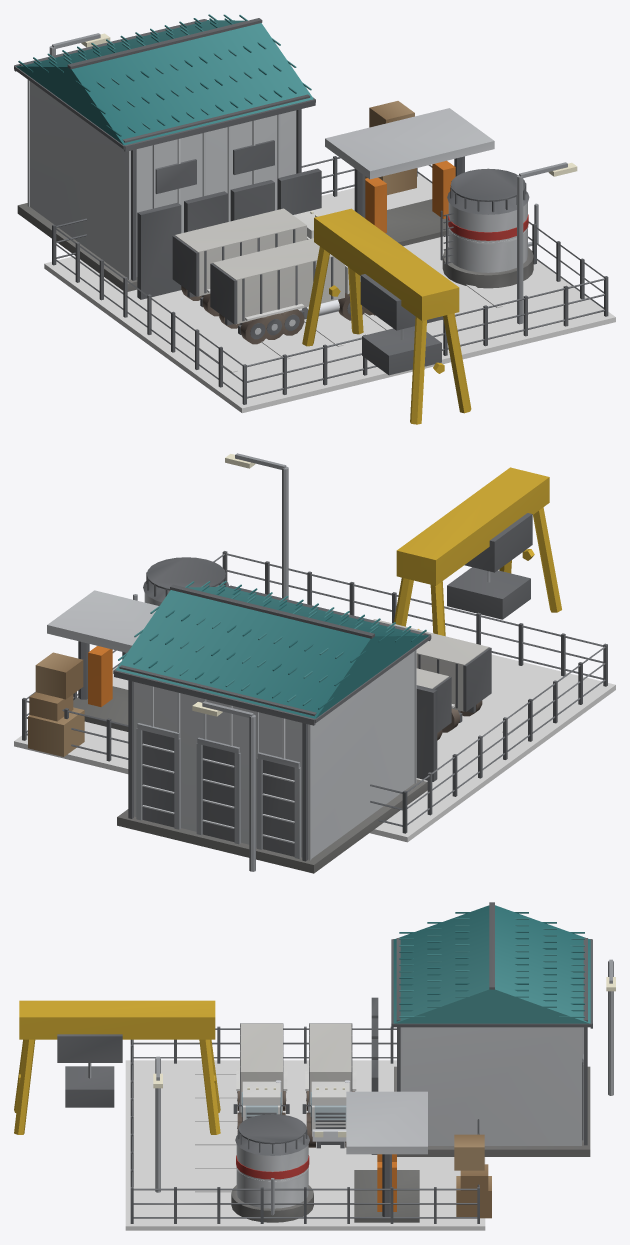
Rendered from Fleet_P3.fbx.
The picture shows the model from 3 angles, top to bottom: view 1: azimuth 30°, elevation 25°; view 2: azimuth 150°, elevation 25°; view 3: azimuth 270°, elevation 25°; orthographic projection. The views are drawn at different scales.
Visible parts, largest first — view 1: Fleet.Garage, Fleet.Yard, Fleet.WashGantry, Fleet.FuelIsland, Fleet.Parked0, Fleet.FuelTank, Fleet.Doors, Fleet.Fence, Fleet.Parked1, Fleet.Lamp1, Fleet.Crates, Fleet.Bays; view 2: Fleet.Garage, Fleet.WashGantry, Fleet.Yard, Fleet.Fence, Fleet.FuelIsland, Fleet.Crates, Fleet.Parked0, Fleet.FuelTank, Fleet.Doors, Fleet.Lamp0, Fleet.Lamp1, Fleet.Parked1; view 3: Fleet.Garage, Fleet.Yard, Fleet.WashGantry, Fleet.FuelIsland, Fleet.FuelTank, Fleet.Parked1, Fleet.Fence, Fleet.Parked0, Fleet.Crates, Fleet.Lamp0, Fleet.Lamp1, Fleet.Bays (+1 smaller).
Part boxes in pixels (x1,y1,x2,y2): Fleet.Garage: (14,14,315,291); Fleet.Yard: (44,173,615,413); Fleet.WashGantry: (302,208,471,424); Fleet.FuelIsland: (325,108,494,246); Fleet.Parked0: (210,238,374,344); Fleet.FuelTank: (440,168,538,288); Fleet.Doors: (137,168,321,299); Fleet.Fence: (52,156,608,404); Fleet.Parked1: (172,207,333,316); Fleet.Lamp1: (517,162,577,324); Fleet.Crates: (365,101,416,195); Fleet.Bays: (199,284,502,372); Fleet.Garage: (113,581,431,873); Fleet.WashGantry: (394,467,561,636); Fleet.Yard: (14,654,615,842); Fleet.Fence: (22,551,607,833); Fleet.FuelIsland: (47,590,158,731); Fleet.Crates: (28,652,84,756); Fleet.Parked0: (373,619,491,732); Fleet.FuelTank: (133,557,228,605); Fleet.Doors: (416,685,437,781); Fleet.Lamp0: (192,701,255,871); Fleet.Lamp1: (225,453,288,599); Fleet.Parked1: (416,668,451,740); Fleet.Garage: (391,902,592,1156); Fleet.Yard: (125,1060,485,1230); Fleet.WashGantry: (14,1000,220,1134); Fleet.FuelIsland: (346,1091,427,1222); Fleet.FuelTank: (231,1114,313,1222); Fleet.Parked1: (302,1023,356,1148); Fleet.Fence: (130,1026,479,1223); Fleet.Parked0: (233,1023,289,1134); Fleet.Crates: (454,1134,491,1218); Fleet.Lamp0: (606,959,615,1095); Fleet.Lamp1: (153,1056,162,1192); Fleet.Bays: (195,1071,237,1192).
Size of the model in its own units: 2422 by 1183 by 3682.
